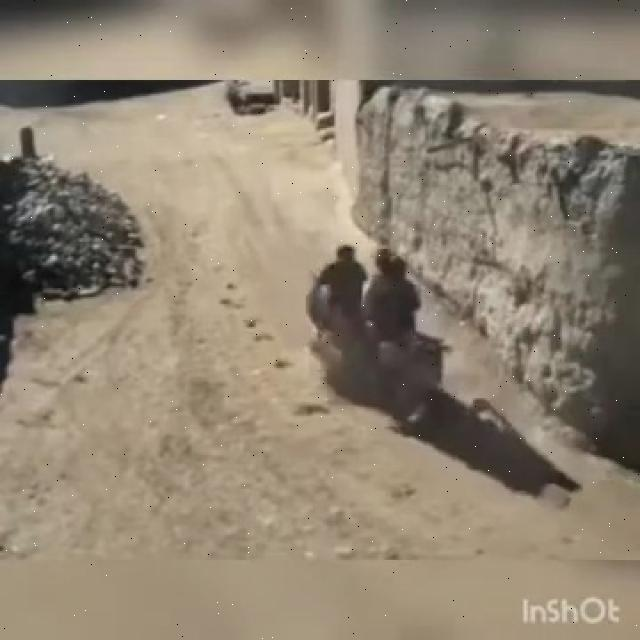accident: (290, 215, 454, 430)
